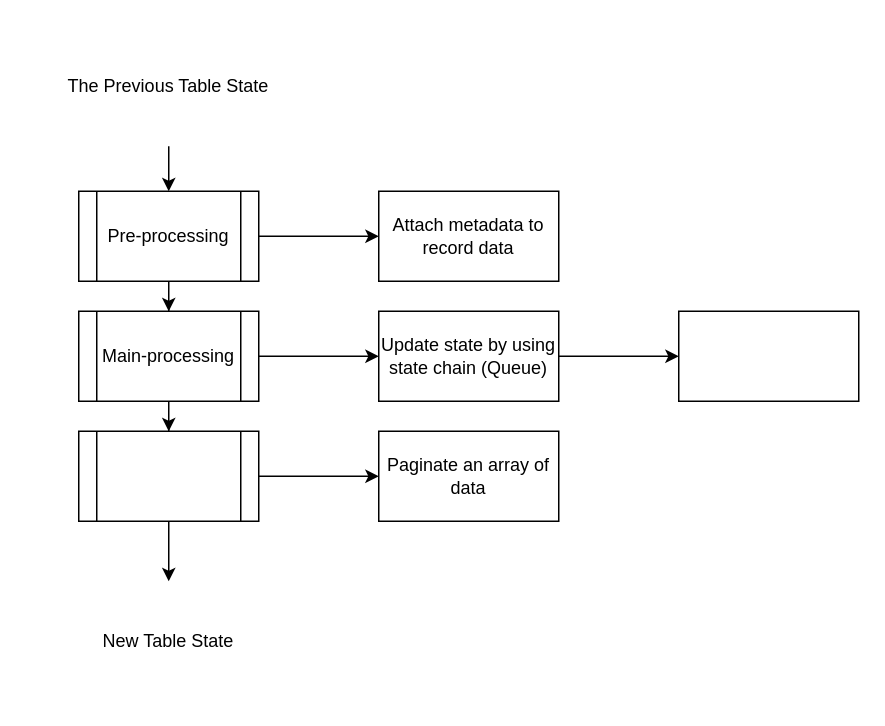
Some shapes in this 885 by 726 pixel diagram are drawn without their labels. The shapes that lost their labels are listed below. From the top down, each one's centre as x and y in pixels, then its label:
pixel 768 355: Iterate through state chain (Queue)
pixel 168 475: Post-processing
